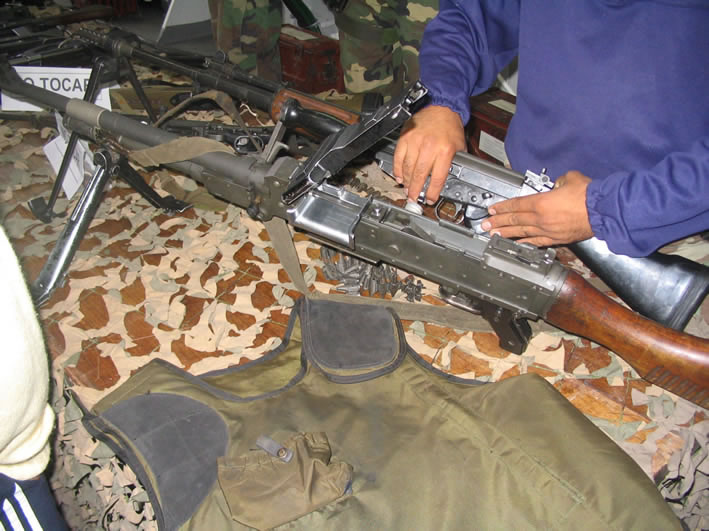rifle: (18, 56, 390, 279)
rifle in hand: (13, 47, 702, 423)
